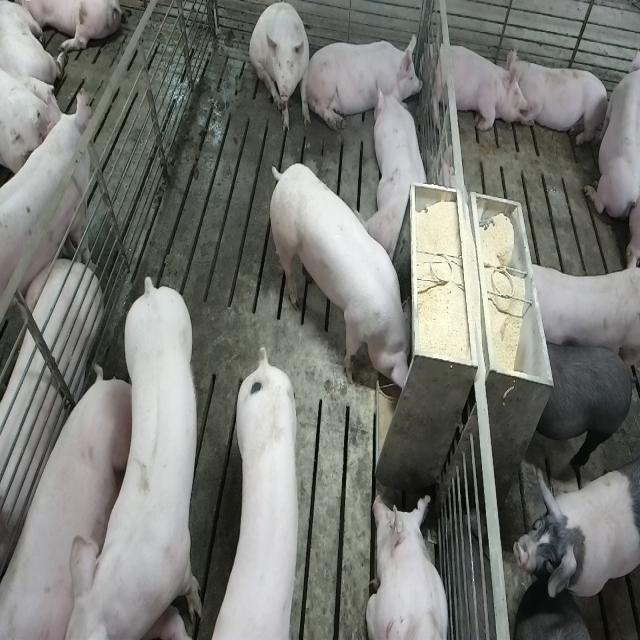Feeding: (264, 162, 411, 392)
Lateral_lying: (0, 371, 128, 639), (0, 260, 102, 596)
Sitting: (250, 3, 311, 135)
Standing: (66, 273, 205, 636), (216, 353, 304, 640), (0, 91, 90, 333), (512, 469, 636, 607), (530, 336, 638, 472), (522, 256, 638, 371), (513, 610, 608, 640)
Sternal_lying: (366, 490, 451, 640), (370, 81, 431, 262), (312, 32, 421, 131), (508, 50, 611, 150), (584, 36, 637, 222), (426, 36, 522, 134)
